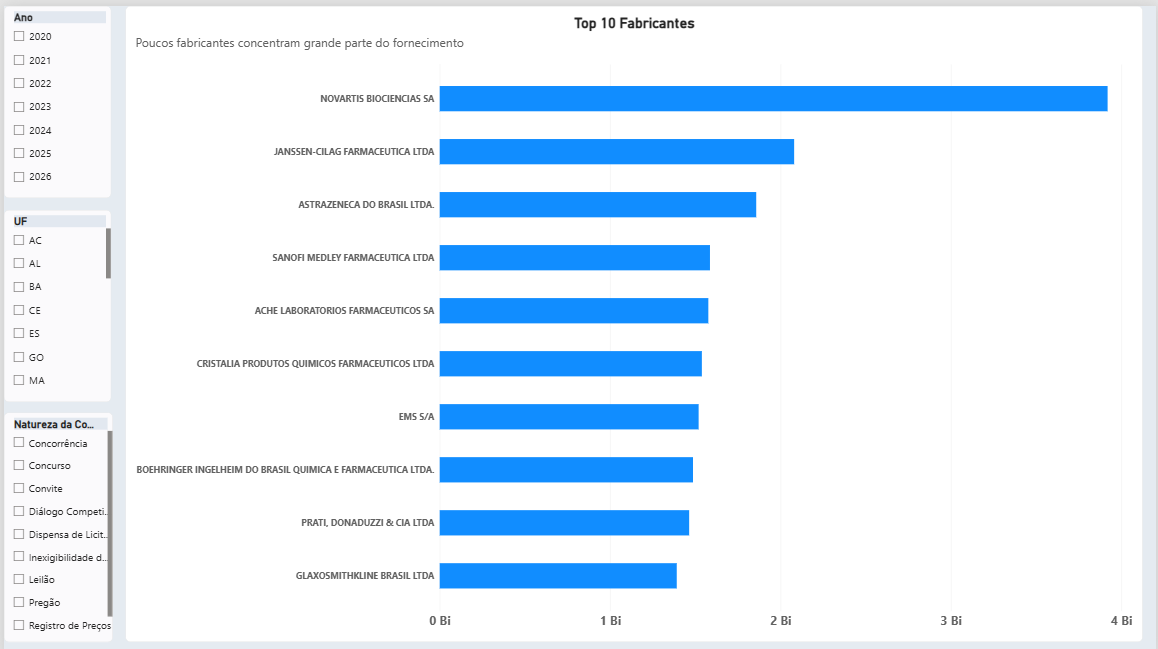

The page's visual inventory and layout, read from the dashboard file:
{"tool":"powerbi","page":{"name":"Fabricantes","canvas":[1920,1080],"ordinal":2},"visuals":[{"type":"clusteredBarChart","title":"Top 10 Fabricantes","fields":{"Category":["BPS.no_fabricante"],"Y":["BPS.Valor Total Registrado"]},"box":[201.3,0,1695.1,1060.2],"z":3000},{"type":"slicer","fields":{"Values":["BPS.ano_compra"]},"box":[0,0,178.9,319.7],"z":4000},{"type":"slicer","fields":{"Values":["BPS.sg_uf"]},"box":[0,341.2,178.9,319.7],"z":5000},{"type":"slicer","fields":{"Values":["BPS.modalidade"]},"box":[0,677.5,181.4,382.7],"z":6000}]}

Visuals, with their boxes on the page's 1920x1080 design canvas (x1, y1, x2, y2). These are canvas units, not pixel positions in the 1158x649 screenshot, which may show the page scaled, cropped or inside an application window:
"Top 10 Fabricantes" clusteredBarChart: select_region(201, 0, 1896, 1060)
slicer - BPS.ano_compra: select_region(0, 0, 179, 320)
slicer - BPS.sg_uf: select_region(0, 341, 179, 661)
slicer - BPS.modalidade: select_region(0, 678, 181, 1060)
